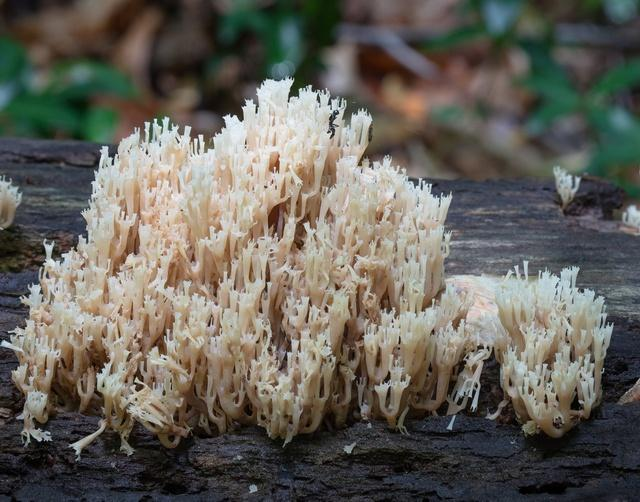edible_mushroom: (1, 74, 495, 461), (488, 259, 614, 438), (442, 273, 508, 360), (551, 164, 581, 211), (0, 173, 22, 230)
